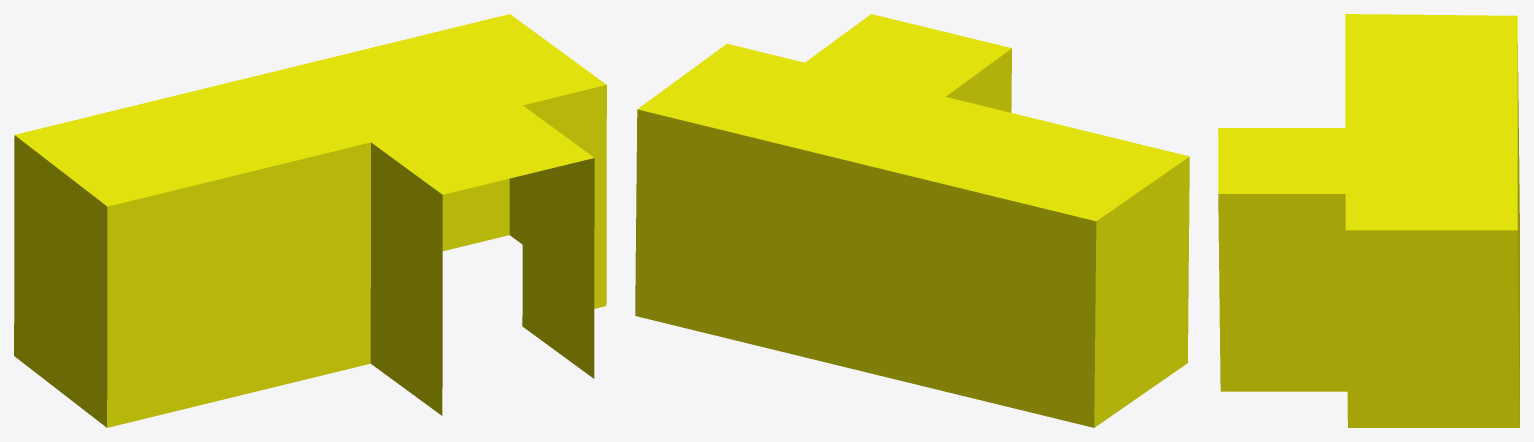
Rendered from Petitcoinplanqué.FBX.
The picture shows the model from 3 angles, left to right: view 1: azimuth 30°, elevation 25°; view 2: azimuth 150°, elevation 25°; view 3: azimuth 270°, elevation 25°; orthographic projection. The views are drawn at different scales.
Visible parts, largest first — view 1: Petitcoinplanqué; view 2: Petitcoinplanqué; view 3: Petitcoinplanqué.
Part boxes in pixels (box(x1,y1,x2,y2)): Petitcoinplanqué: box(14, 14, 606, 427); Petitcoinplanqué: box(635, 14, 1189, 427); Petitcoinplanqué: box(1218, 14, 1519, 427).
Size of the model in its own units: 92.4 by 39.24 by 54.37.
